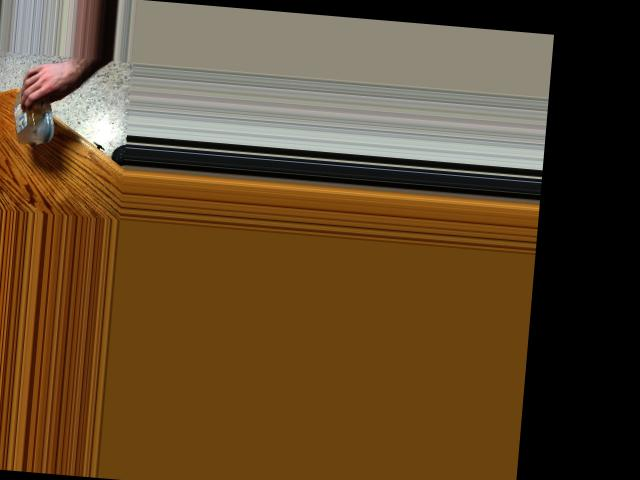cheese: (10, 77, 62, 134)
